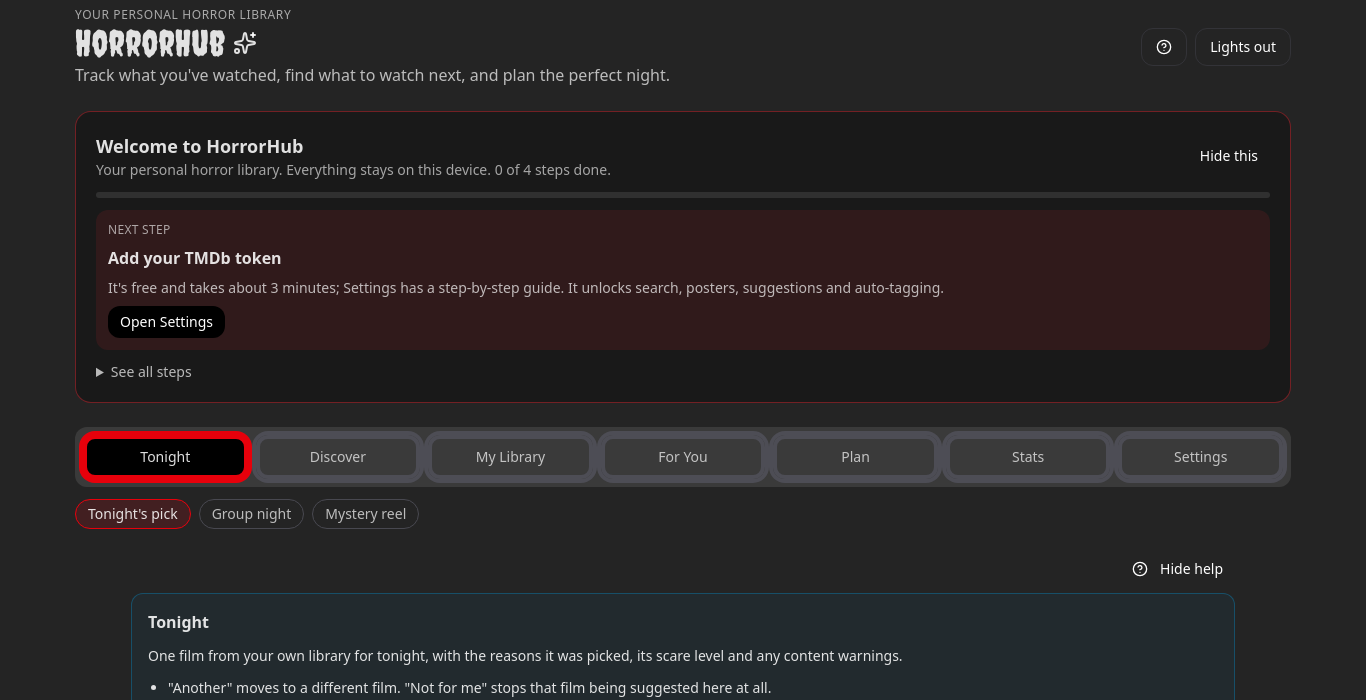
it: reduced motion › tells you in Settings why the switches aren't doing anything
What coordinates should you click on to do the following:
click the tab "Settings"
I would click on:
 (1201, 457)
Its box is 1118,435 -> 1283,479.
(page scrolled)
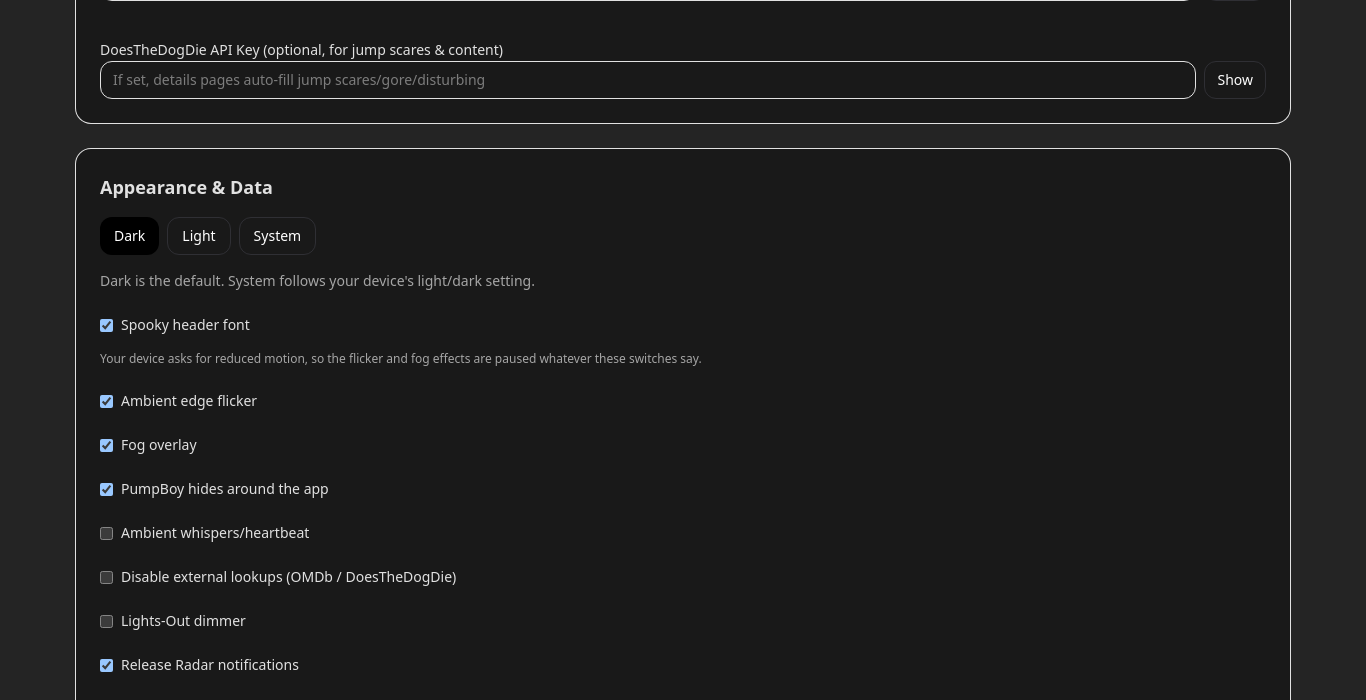
Now the text "reduced motion" is shown, box 100,350 -> 702,367
